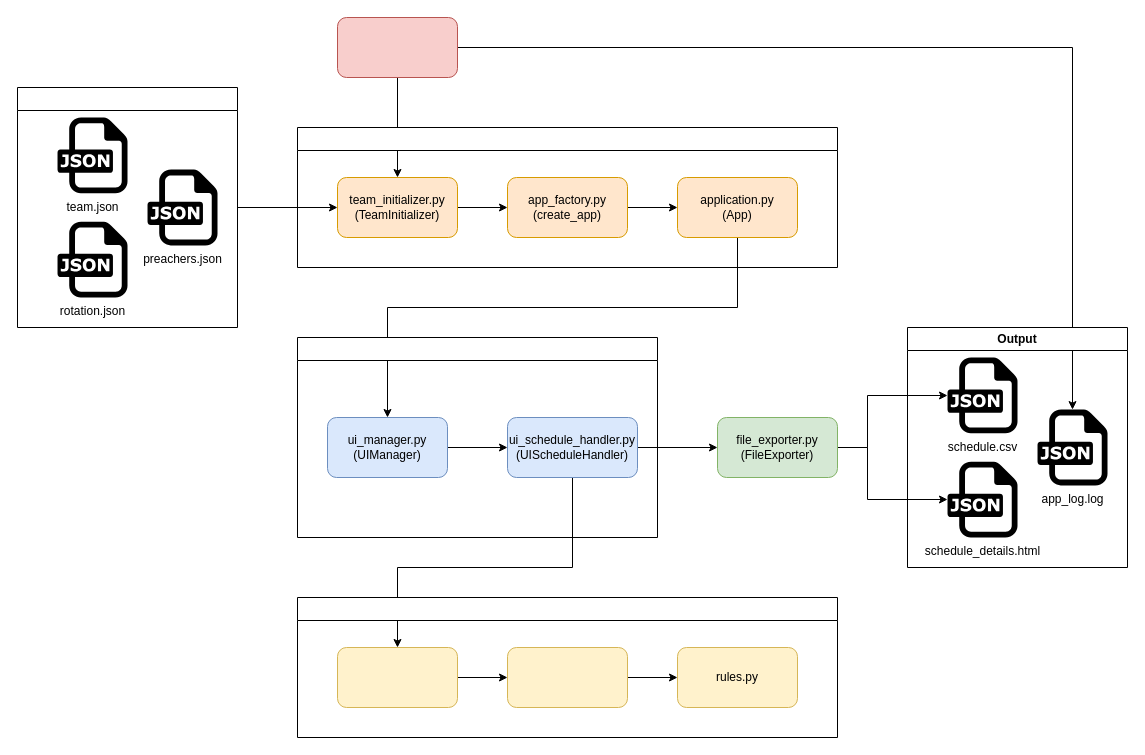
The diagram is 1145 pixels wide and 755 high, and some of its shapes have lost their labels. Each missing label, with the box of its shape:
Data: (16, 86, 238, 328)
Domain Layer: (296, 596, 838, 738)
eligibility_checker.py (EligibilityChecker): (506, 646, 628, 708)
main.py (Entry Point): (336, 16, 458, 78)
schedule.py (Schedule): (336, 646, 458, 708)
Startup: (296, 126, 838, 268)
UI Layer: (296, 336, 658, 538)
